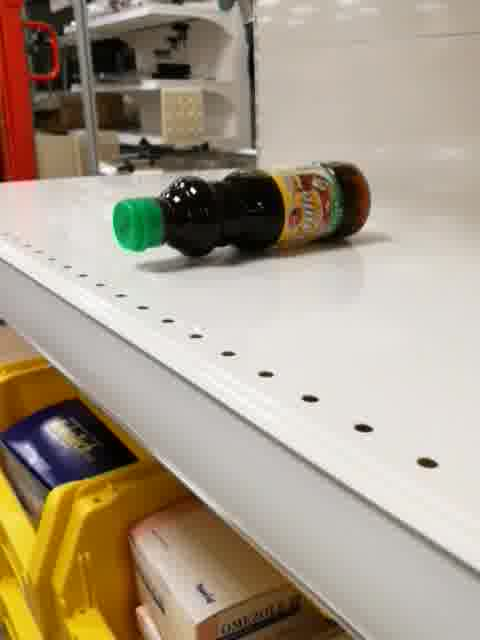cookingoil: (110, 157, 374, 261)
